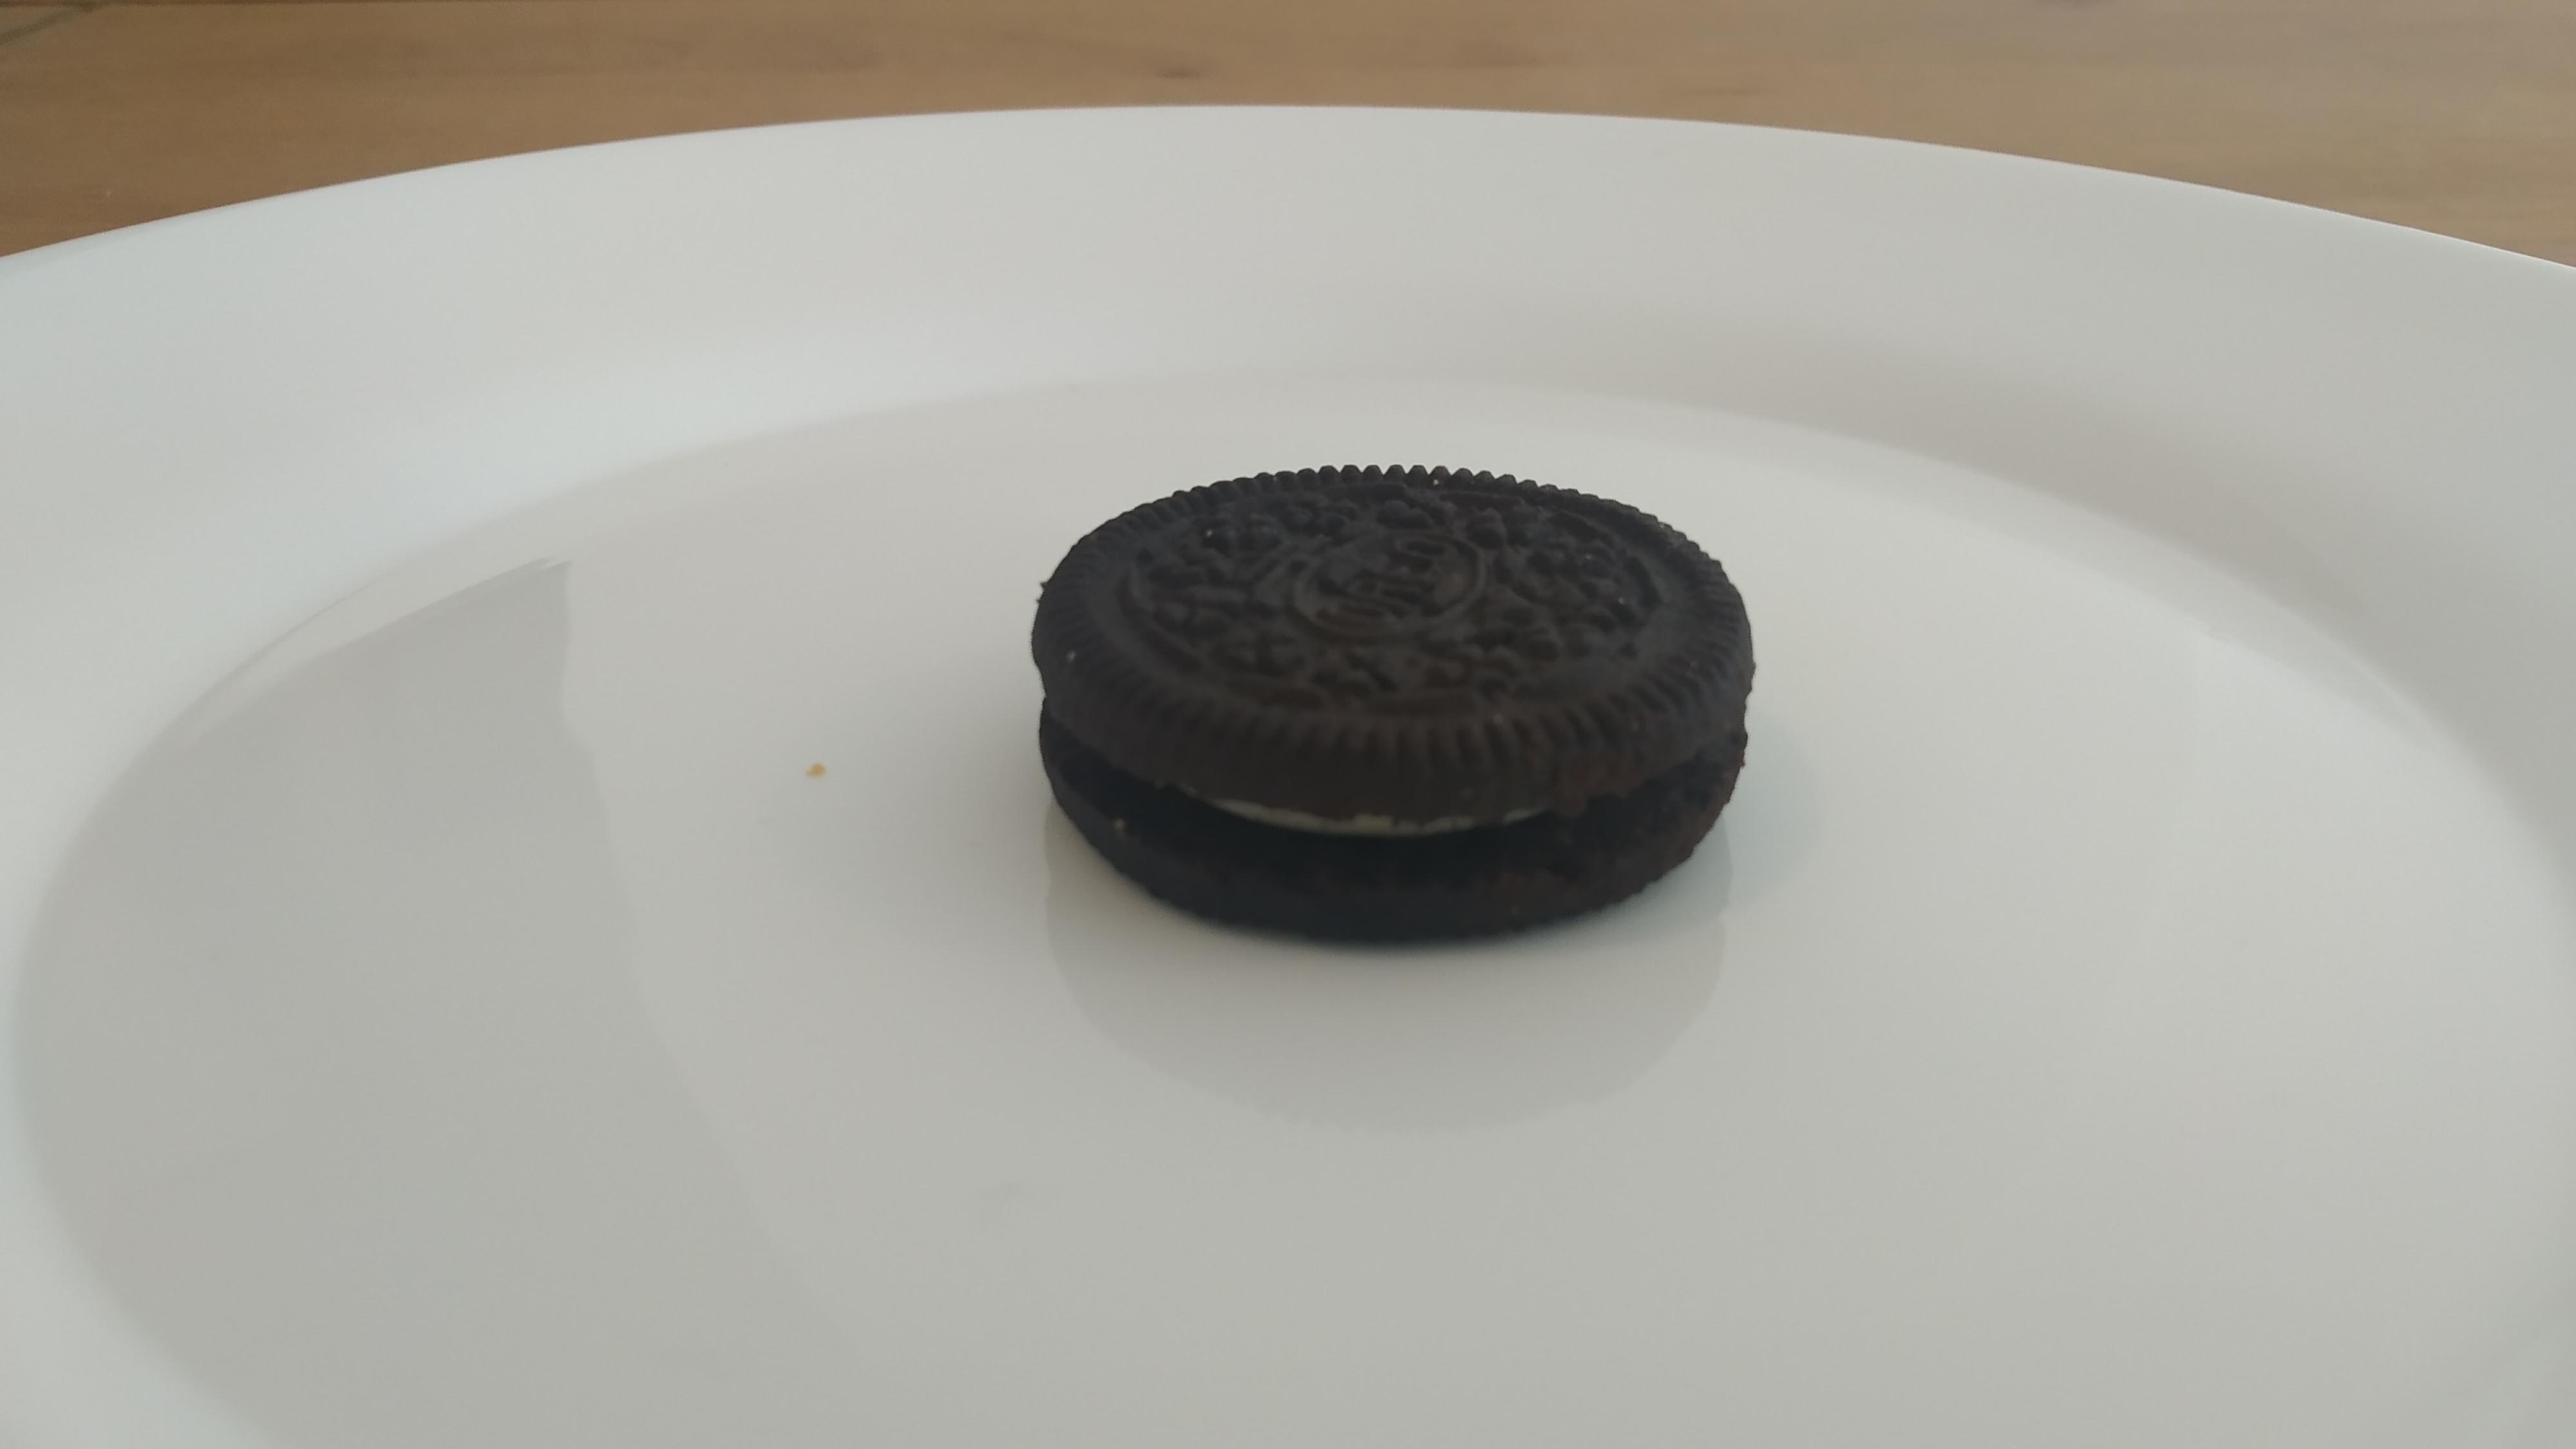oreo: (1033, 464, 1753, 939)
